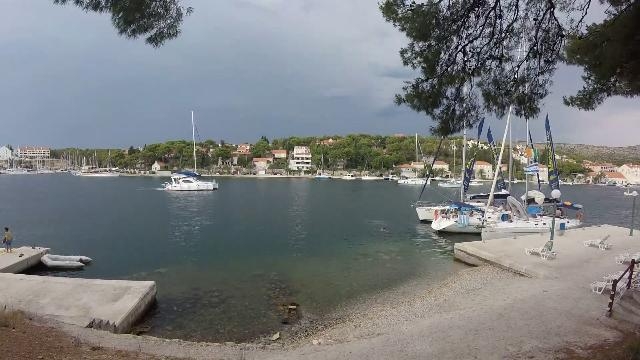Sailboat: (160, 168, 222, 196)
